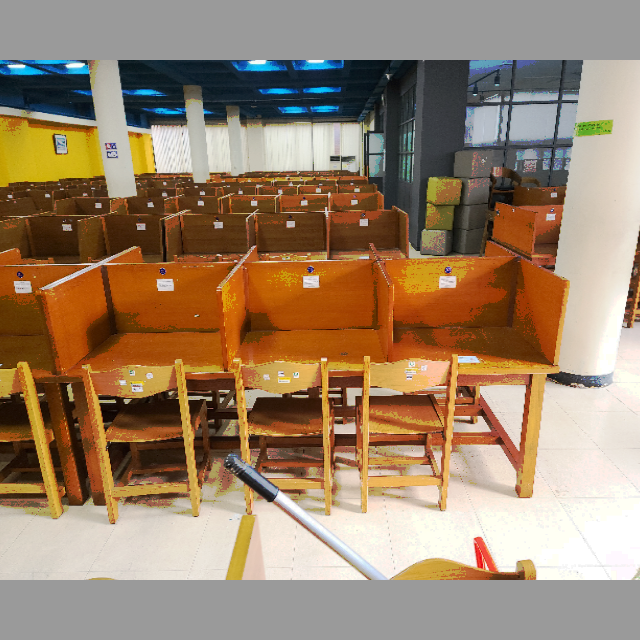empty: (395, 246, 561, 450), (229, 254, 393, 439), (52, 259, 224, 434)
